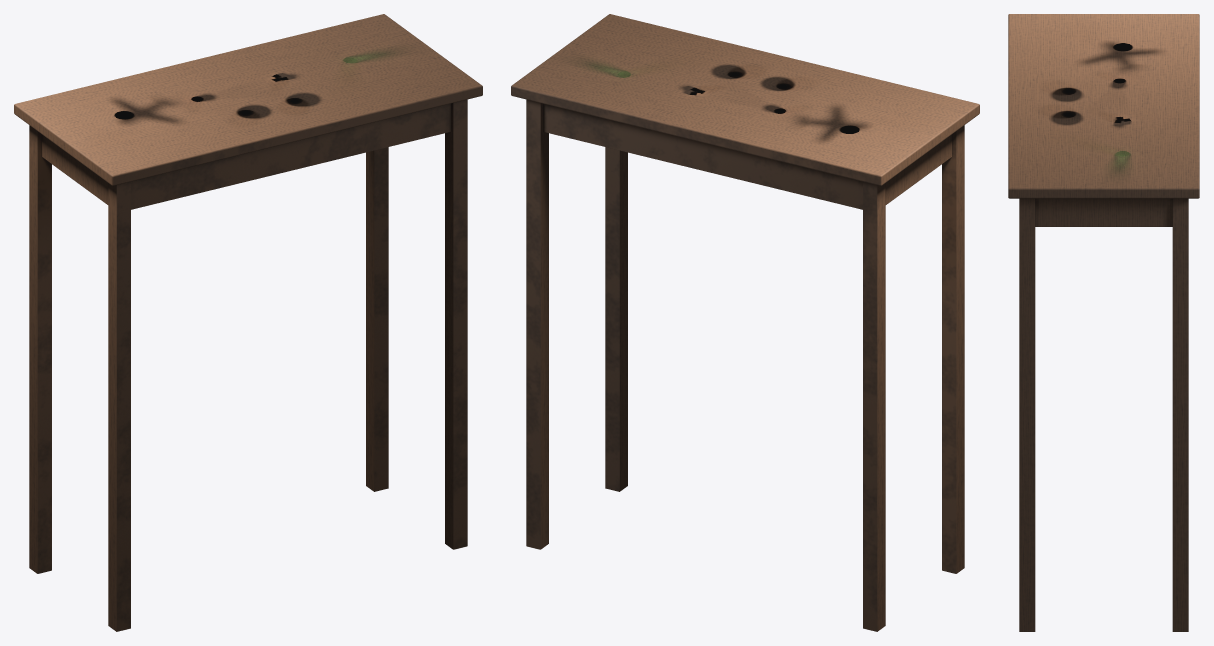
The model's file is 812_hook.glb.
The picture shows the model from 3 angles, left to right: view 1: azimuth 30°, elevation 25°; view 2: azimuth 150°, elevation 25°; view 3: azimuth 270°, elevation 25°; orthographic projection. The views are drawn at different scales.
Visible parts, largest first — view 1: Table; view 2: Table; view 3: Table.
Boxes of the visible parts, x1,y1,x2,y2 form: Table: (14, 14, 482, 631); Table: (511, 14, 979, 631); Table: (1008, 14, 1199, 631).
Size of what is drawn, in the model's own units: 2.6 by 3.1 by 1.2.
1 material, 1 textured.
